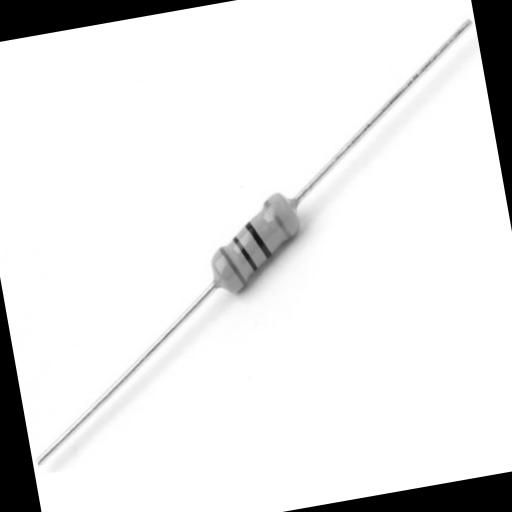RESISTOR: (152, 164, 360, 328)
